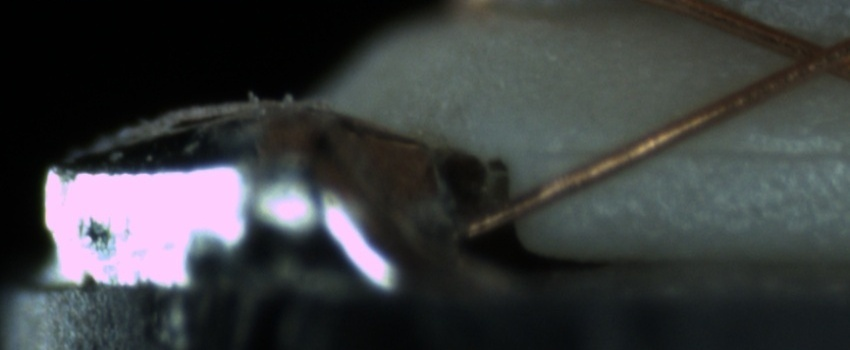CL: (764, 25, 846, 89)
DL: (543, 119, 850, 182)
